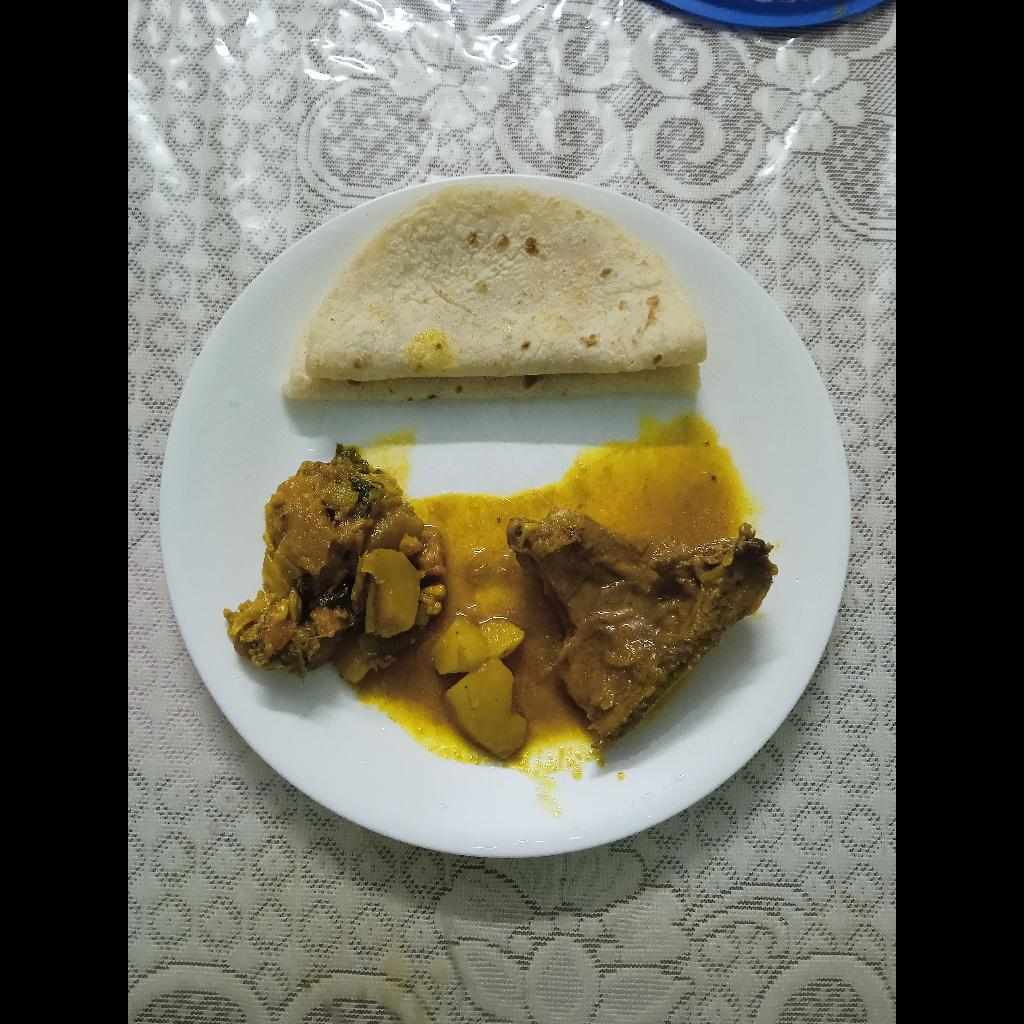chicken: (506, 509, 779, 750)
potato: (428, 616, 527, 761)
ruti: (280, 183, 710, 405)
vegetable: (223, 444, 445, 684)
